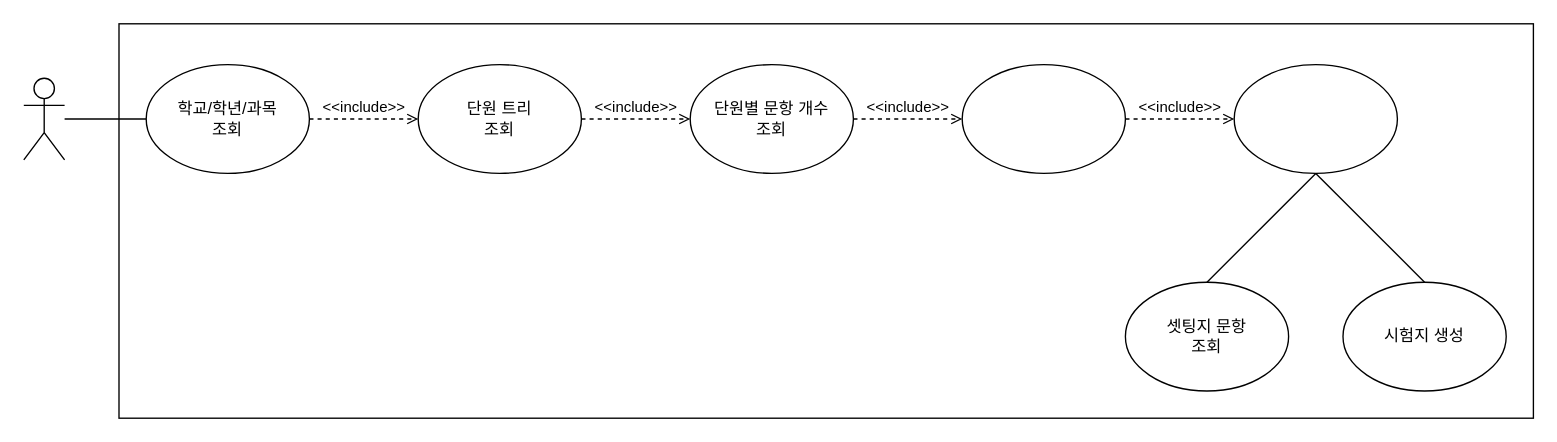
Some shapes in this 1557 by 442 pixel diagram are drawn without their labels. The shapes that lost their labels are listed below. From the top down, each one's centre as x and y in pixels, then its label:
pixel 43 118: Actor
pixel 1043 118: 문항 목록 조회
pixel 1315 118: 선택한 문항 목록 조회
